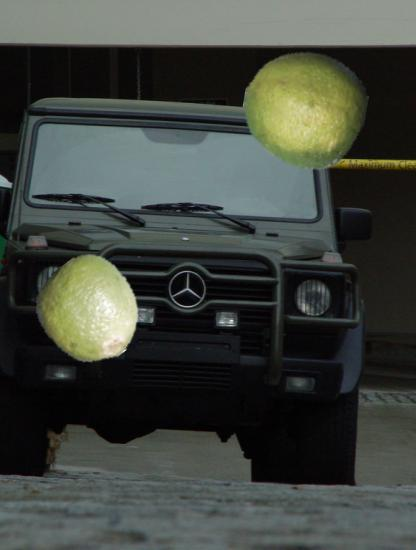Limes: (243, 48, 366, 171), (37, 258, 144, 365)
